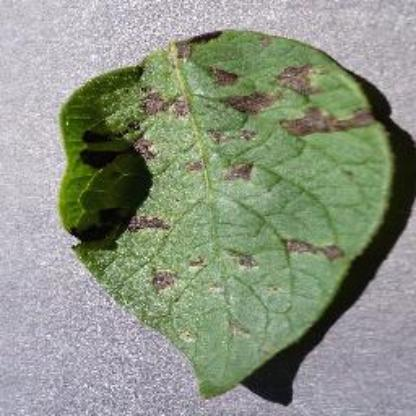Early-Blight: (56, 26, 401, 402)
